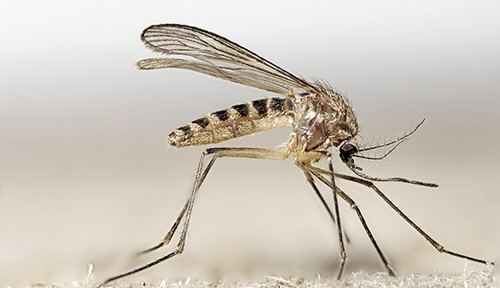mosquito: (86, 14, 497, 282)
